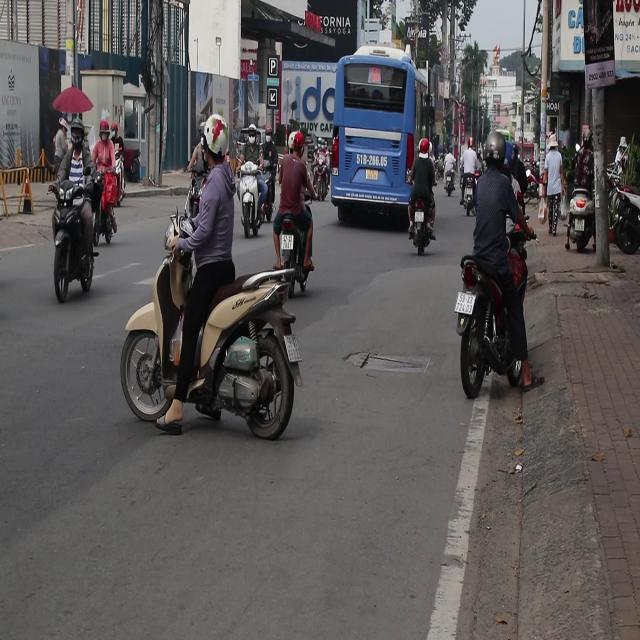bus: (327, 47, 422, 230)
motorbike: (122, 256, 314, 449), (447, 240, 551, 404), (48, 157, 99, 304), (274, 216, 323, 283), (404, 208, 445, 260), (236, 154, 258, 233), (100, 182, 118, 255), (258, 156, 274, 215), (315, 170, 332, 212), (462, 175, 478, 218), (445, 168, 457, 195)
